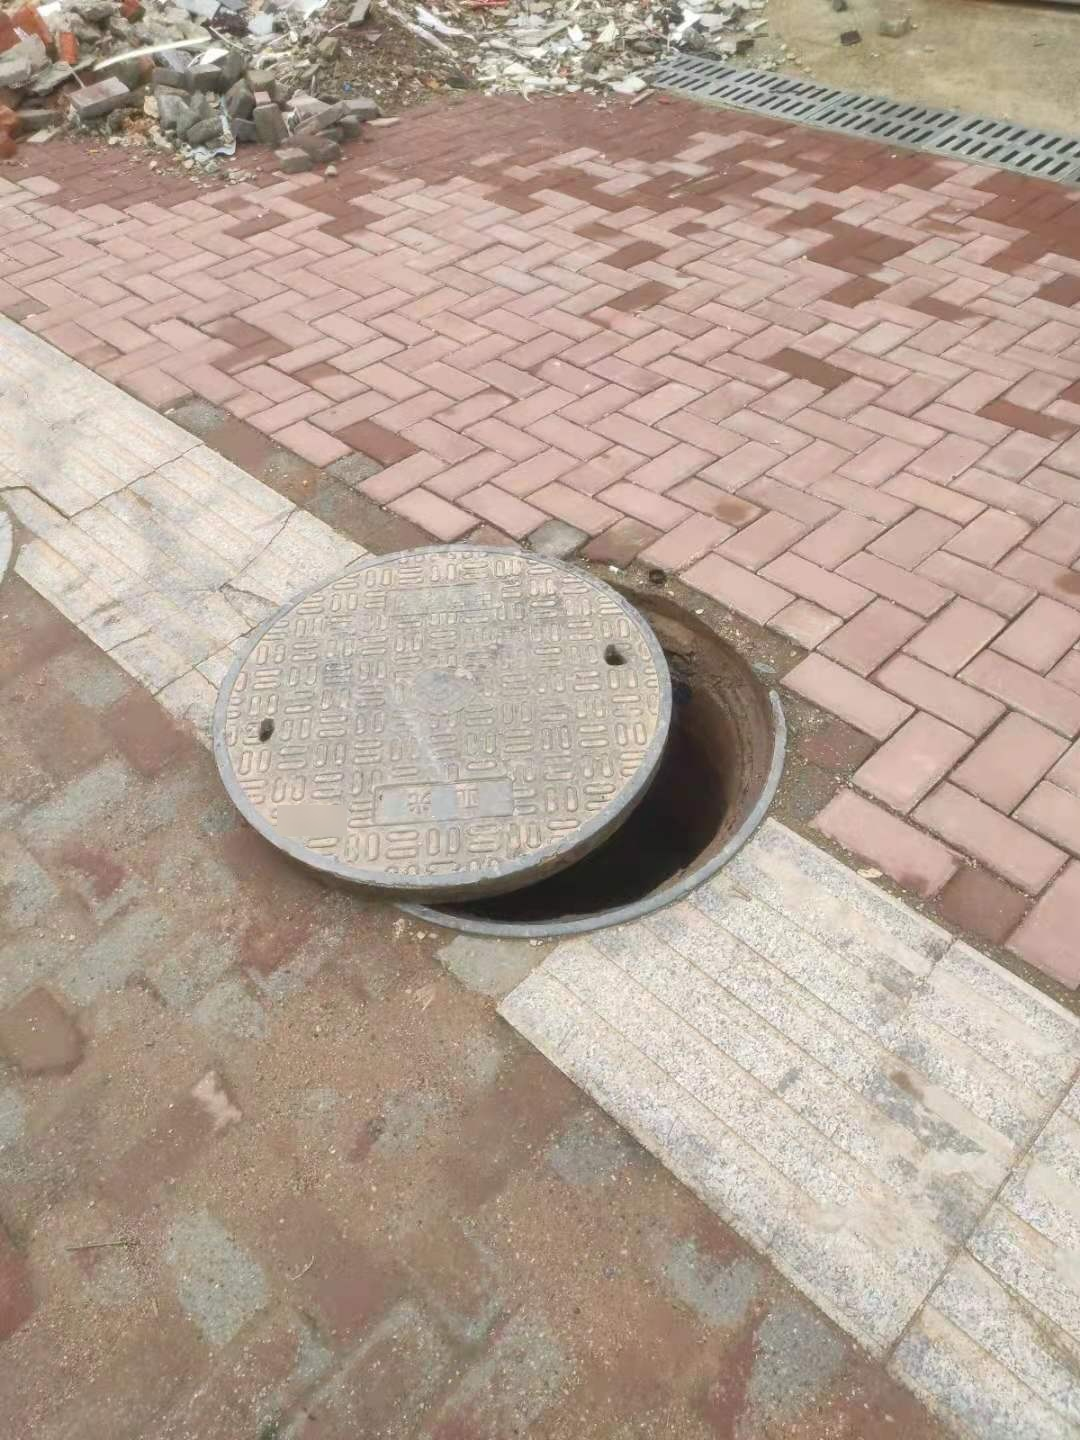uncovered: (213, 542, 792, 941)
